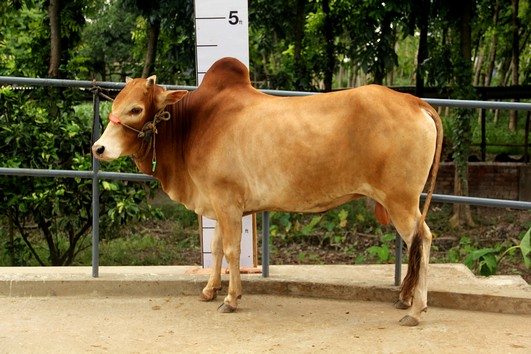cow: (86, 53, 447, 333)
